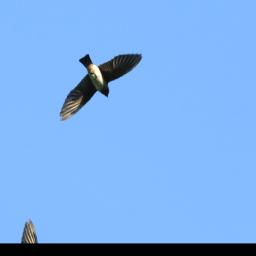Swallow: (55, 25, 141, 146)
